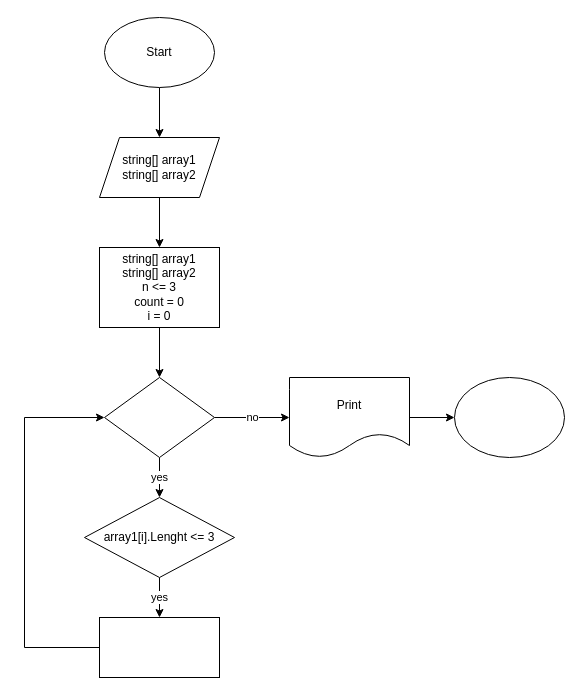
Image size: 582x695. Some labels were removed from this diagram. The shapes that lost their labels are listed below. From the top down, each one's box as (x1, y1, x2, y2) in pixels, then its label:
(104, 376, 214, 458): i < array.Lenght
(454, 376, 564, 458): End
(98, 616, 220, 678): i++
